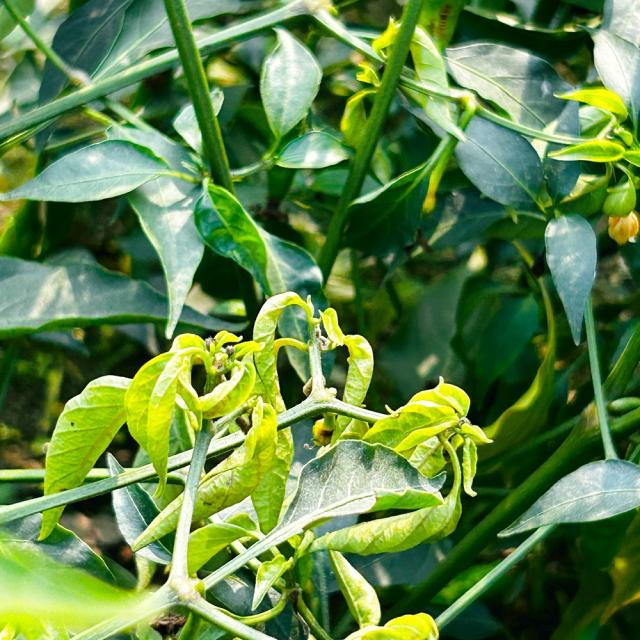Chilli_Leaf_Curl: (1, 0, 638, 638), (14, 289, 492, 638), (0, 123, 207, 337), (124, 328, 260, 500), (36, 373, 133, 542), (496, 457, 639, 538), (452, 112, 546, 212), (542, 211, 598, 346), (258, 25, 322, 139)
